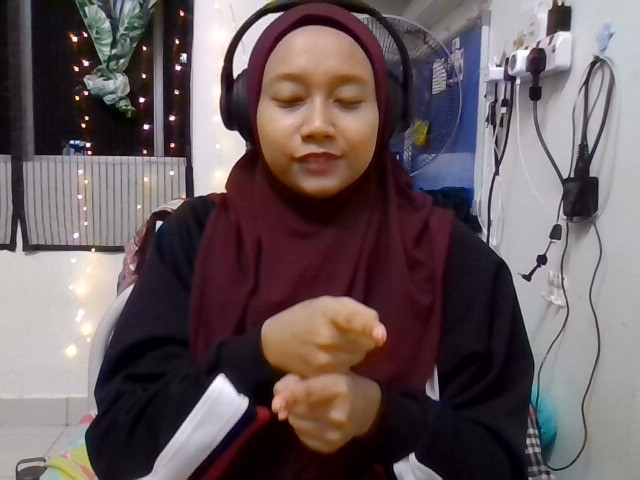Betul: (267, 294, 388, 450)
